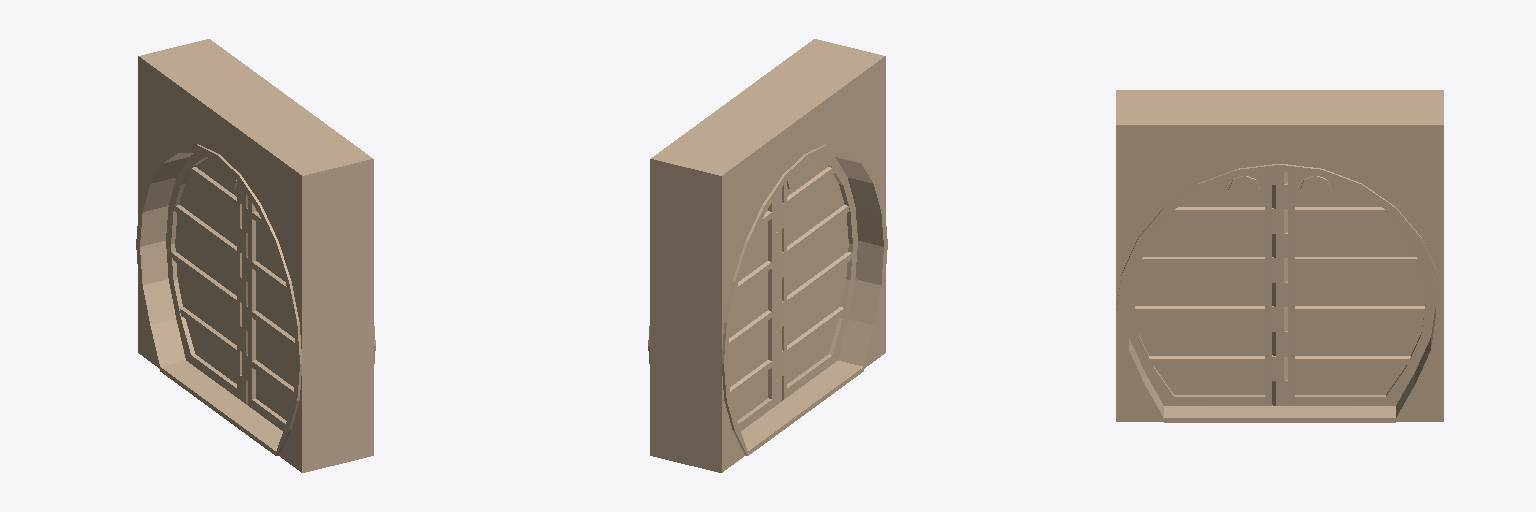
The model's file is round_airlock_door_old.obj.
3 renders of one model, left to right at view 1: azimuth 30°, elevation 25°; view 2: azimuth 150°, elevation 25°; view 3: azimuth 270°, elevation 25°, orthographic.
Visible parts, largest first — view 1: frame, doorRight, doorLeft; view 2: frame, doorLeft, doorRight; view 3: frame, doorRight, doorLeft.
Boxes of the visible parts, x1=… form: frame: x1=136, y1=39, x2=375, y2=472; doorRight: x1=166, y1=152, x2=247, y2=404; doorLeft: x1=242, y1=197, x2=295, y2=430; frame: x1=648, y1=39, x2=887, y2=472; doorLeft: x1=776, y1=152, x2=857, y2=400; doorRight: x1=728, y1=188, x2=781, y2=430; frame: x1=1116, y1=90, x2=1443, y2=422; doorRight: x1=1272, y1=173, x2=1434, y2=405; doorLeft: x1=1125, y1=172, x2=1287, y2=405.
Size of the model in its own units: 1.07 by 4 by 4.